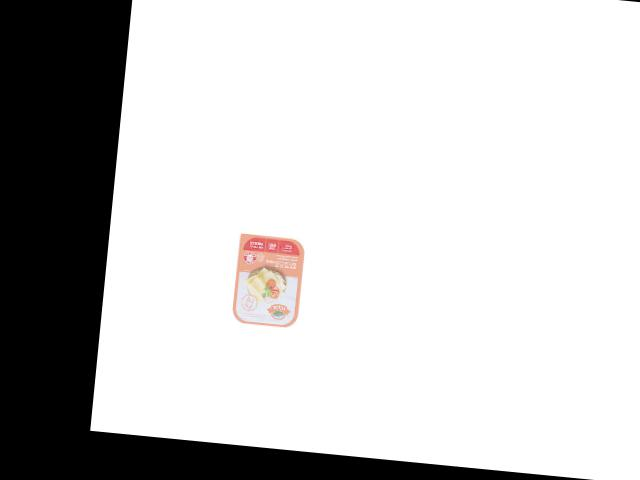cheese: (229, 227, 310, 331)
